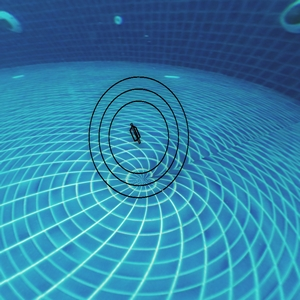circle: (85, 84, 210, 208), (86, 82, 207, 204)
